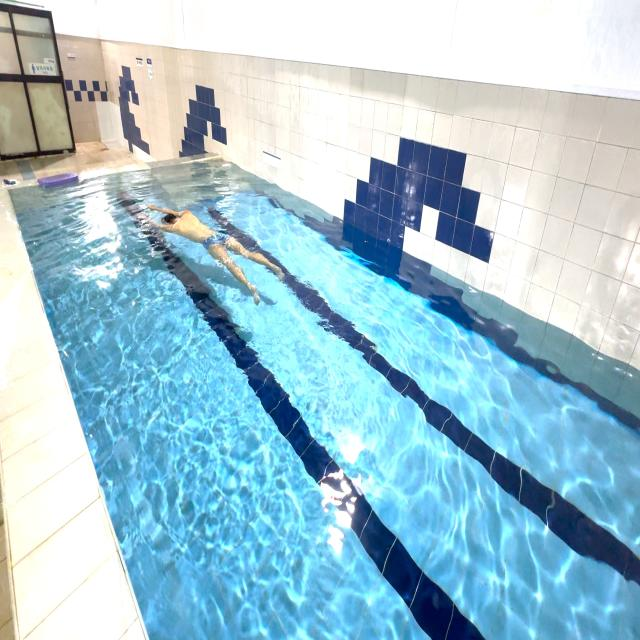Swimming: (132, 178, 295, 317)
